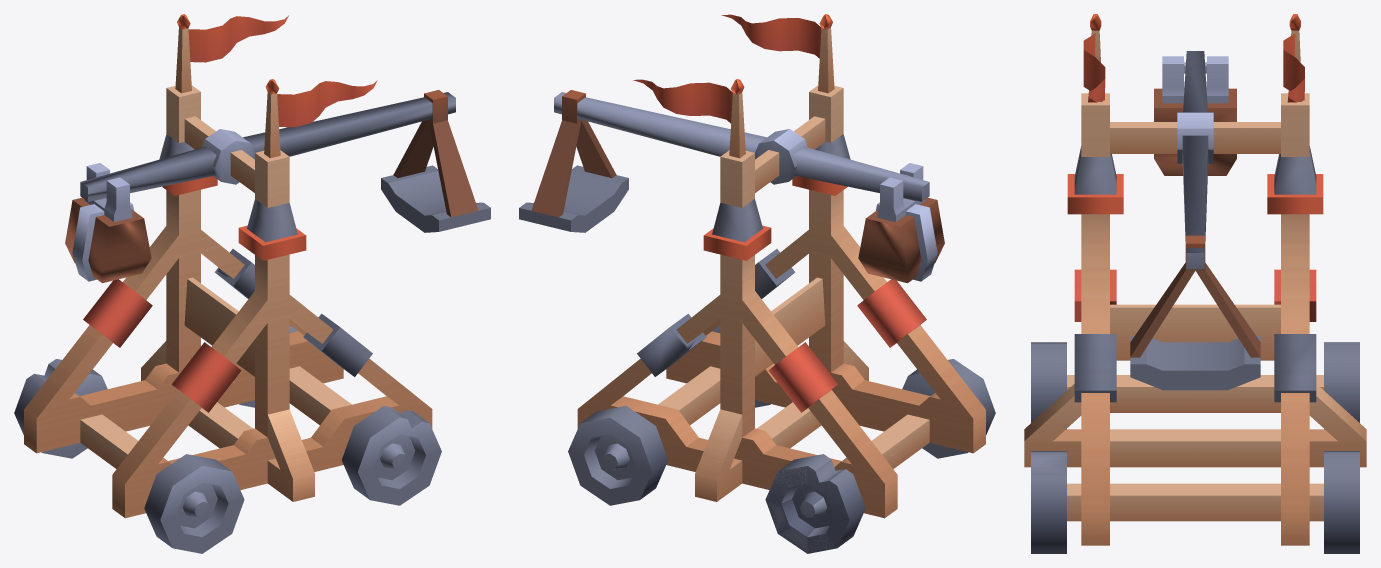
Rendered from siege-trebuchet.fbx.
3 views of the same model, side by side, from view 1: azimuth 30°, elevation 25°; view 2: azimuth 150°, elevation 25°; view 3: azimuth 270°, elevation 25° (orthographic). The views are drawn at different scales.
Parts seen in each view (by area): view 1: siege-trebuchet, arm, catapult.001, wheel.021, wheel.022, weight, wheel.024; view 2: siege-trebuchet, arm, catapult.001, wheel.023, wheel.024, weight, wheel.021; view 3: siege-trebuchet, catapult.001, arm, weight, wheel.022, wheel.023, wheel.021, wheel.024.
Part boxes in pixels (x1,y1,x2,y2): siege-trebuchet: (24, 14, 432, 518); arm: (80, 92, 455, 201); catapult.001: (381, 90, 490, 232); wheel.021: (144, 454, 244, 553); wheel.022: (341, 406, 441, 505); weight: (65, 163, 151, 283); wheel.024: (14, 359, 107, 458); siege-trebuchet: (577, 14, 985, 518); arm: (554, 92, 929, 201); catapult.001: (519, 90, 628, 232); wheel.023: (568, 406, 668, 505); wheel.024: (765, 454, 865, 553); weight: (858, 163, 944, 283); wheel.021: (902, 359, 995, 458); siege-trebuchet: (1024, 14, 1366, 545); catapult.001: (1130, 235, 1260, 390); arm: (1177, 51, 1213, 269); weight: (1154, 56, 1236, 175); wheel.022: (1031, 451, 1066, 553); wheel.023: (1324, 451, 1359, 553); wheel.021: (1031, 342, 1066, 429); wheel.024: (1324, 342, 1359, 429).
Size of the model in its own units: 1.85 by 1.26 by 1.96.
